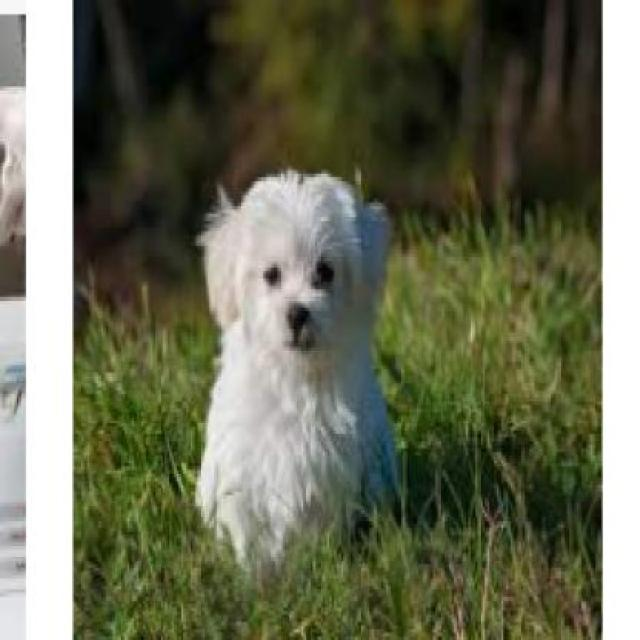Dog: (189, 152, 408, 577)
